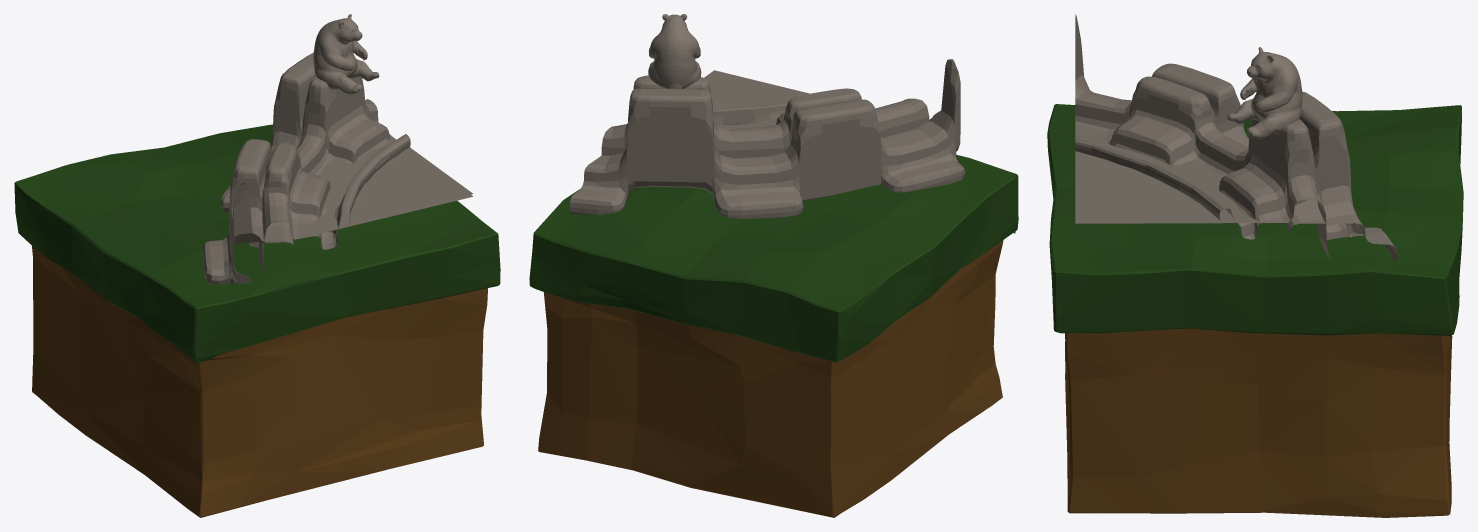
3 renders of one model, left to right at view 1: azimuth 30°, elevation 25°; view 2: azimuth 150°, elevation 25°; view 3: azimuth 270°, elevation 25°, orthographic. The views are drawn at different scales.
Parts seen in each view (by area): view 1: hill.000; view 2: hill.000; view 3: hill.000.
Part boxes in pixels (bbox=[...]): hill.000: bbox=[14, 14, 500, 517]; hill.000: bbox=[529, 14, 1018, 517]; hill.000: bbox=[1047, 14, 1463, 517].
Bounding box in the file's own units: 1.07 × 1.26 × 1.09.
